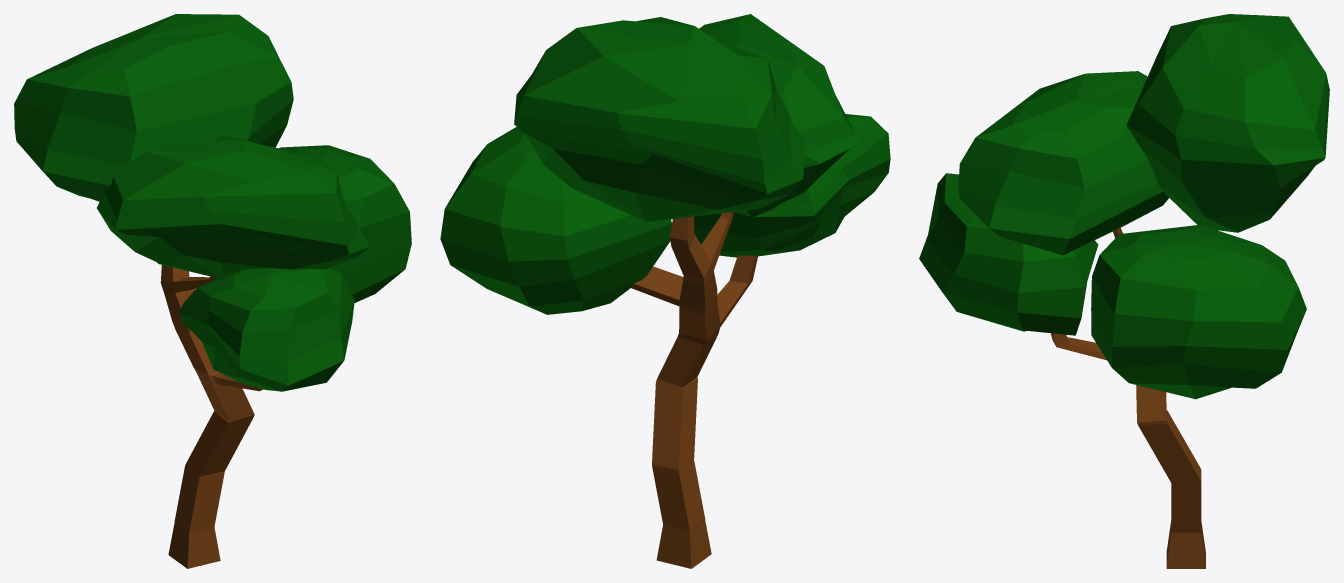
The model's file is drzewo.fbx.
3 renders of one model, left to right at view 1: azimuth 30°, elevation 25°; view 2: azimuth 150°, elevation 25°; view 3: azimuth 270°, elevation 25°, orthographic. The views are drawn at different scales.
Visible parts, largest first — view 1: liscie, pien; view 2: liscie, pien; view 3: liscie, pien.
Boxes of the visible parts, left/top/right/bottom form: liscie: left=14, top=14, right=411, bottom=391; pien: left=160, top=265, right=263, bottom=568; liscie: left=440, top=14, right=890, bottom=314; pien: left=630, top=212, right=757, bottom=568; liscie: left=919, top=14, right=1329, bottom=399; pien: left=1051, top=228, right=1205, bottom=568.
Bounding box in the file's own units: 1501 × 2214 × 1565.
2 materials, 2 textured.
